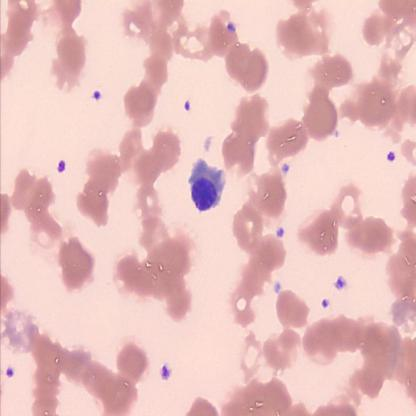NRC: (188, 157, 227, 213)
